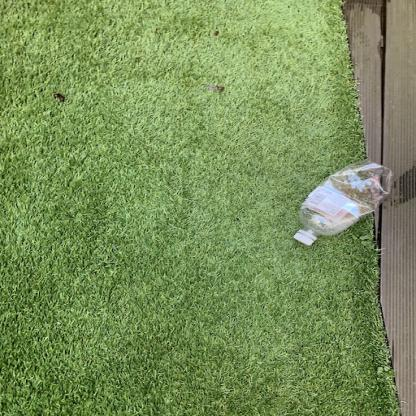trash: (292, 160, 393, 248)
